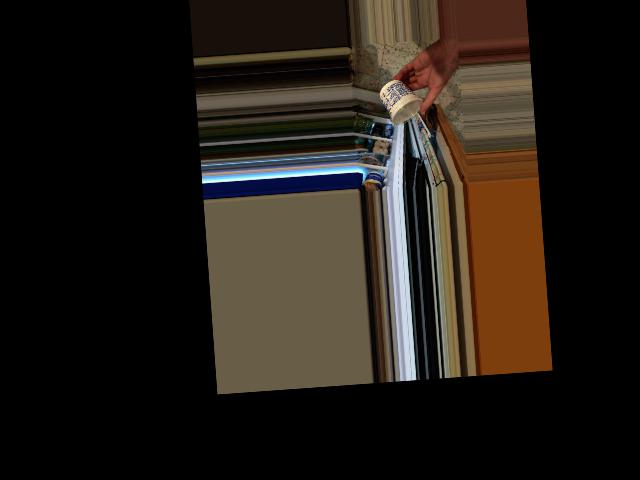cotage: (382, 76, 422, 126)
